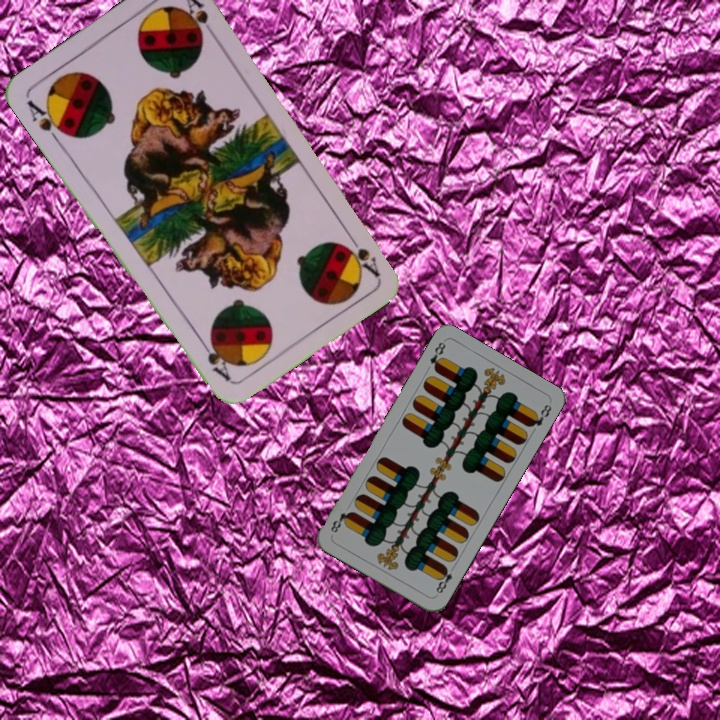E8: (431, 562, 458, 598), (426, 338, 448, 374)
SA: (22, 95, 72, 147), (342, 227, 383, 279)
